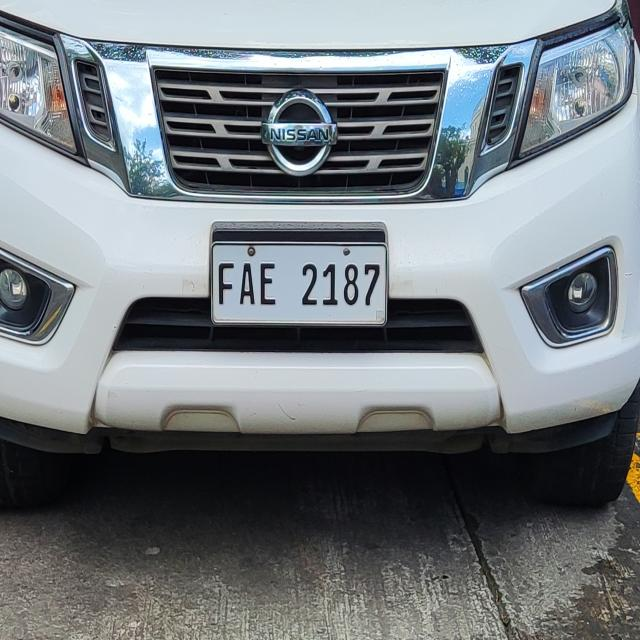plate: (207, 238, 390, 328)
